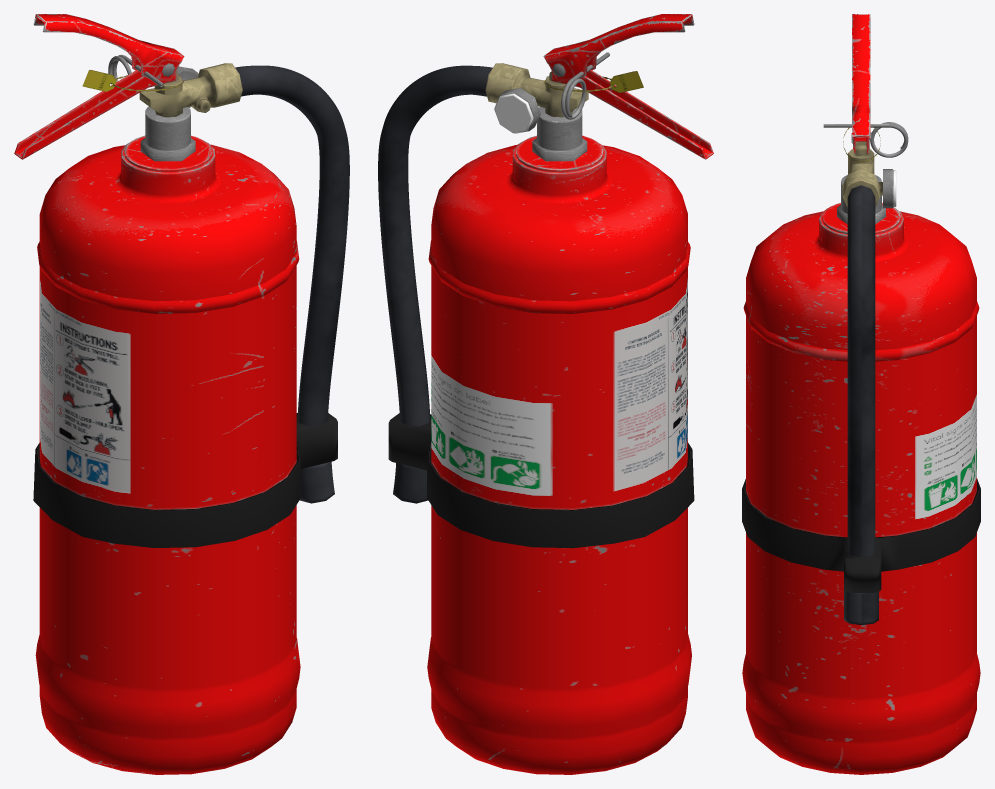
The model's file is SM_Extinguisher.fbx.
The picture shows the model from 3 angles, left to right: view 1: azimuth 30°, elevation 25°; view 2: azimuth 150°, elevation 25°; view 3: azimuth 270°, elevation 25°; orthographic projection. The views are drawn at different scales.
Parts seen in each view (by area): view 1: SM_Extinguisher_LOD0; view 2: SM_Extinguisher_LOD0; view 3: SM_Extinguisher_LOD0.
Boxes of the visible parts, x1,y1,x2,y2 form: SM_Extinguisher_LOD0: (14, 14, 349, 774); SM_Extinguisher_LOD0: (378, 14, 713, 774); SM_Extinguisher_LOD0: (742, 14, 980, 774).
Bounding box in the file's own units: 34.54 × 24.2 × 74.45.
